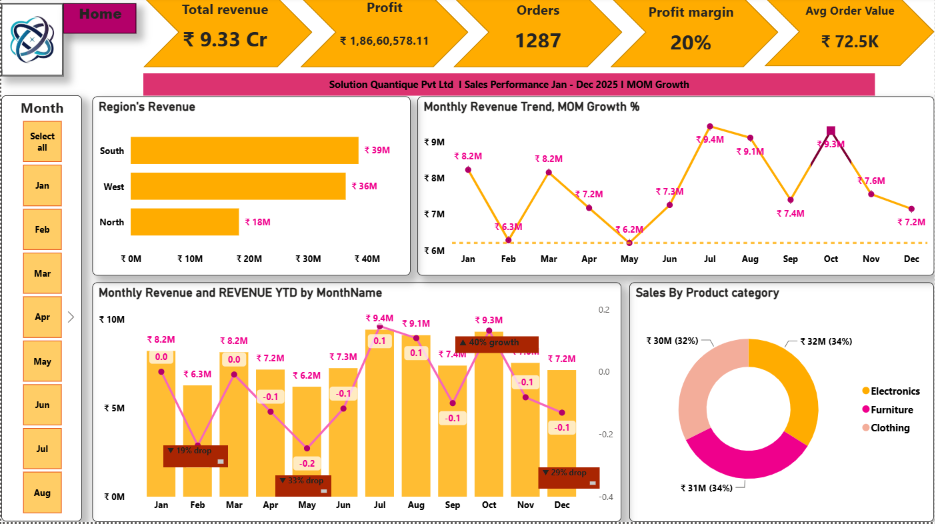

Layout of this report page (visuals, bound fields, positions):
{"tool":"powerbi","page":{"name":"Executive Summary-SQ1","canvas":[1280,720],"ordinal":0},"visuals":[{"type":"slicer","title":"Month","fields":{"Values":["Dim_Date.Month Short"]},"box":[0,134.8,110.5,584.5],"z":0},{"type":"lineChart","title":"Monthly Revenue Trend, MOM Growth %","fields":{"Y":["All Measures.Total_Revenue"],"Category":["Dim_Date.Month Short"]},"box":[570.3,136.5,709.7,246],"z":1000},{"type":"donutChart","title":"Sales By Product category","fields":{"Y":["Sum(fact_Sales.Total_Sales)"],"Category":["dim_Product.Product_Category"]},"box":[862.3,391.5,417.7,328.5],"z":2000},{"type":"clusteredBarChart","title":"Region''s  Revenue ","fields":{"Category":["fact_Sales.region"],"Y":["All Measures.Total_Revenue"]},"box":[124.4,136.5,436.6,246],"z":3000},{"type":"lineClusteredColumnComboChart","title":"Monthly Revenue and REVENUE YTD by MonthName","fields":{"Y2":["All Measures.Growth vs Jan 2025 %"],"Y":["All Measures.Total_Revenue"],"Category":["Dim_Date.Month Short"]},"box":[124.4,391.5,725.9,328.5],"z":4000},{"type":"textbox","title":"▼ 19% drop","box":[222.7,615.2,87.9,30.3],"z":5000},{"type":"textbox","title":"▼ 33% drop","box":[375.8,656.1,75.8,28.8],"z":6000},{"type":"textbox","title":"▼ 29% drop","box":[736.4,645.5,83.3,28.8],"z":7000},{"type":"textbox","title":"▲ 40% growth","box":[622.5,464.8,114.1,22.5],"z":8000},{"type":"image","box":[0,8,85,100],"z":9000},{"type":"actionButton","title":"Home","box":[85.1,8.2,100.2,41.2],"z":10000},{"type":"shape","box":[194.4,0,231.9,95.8],"z":11000},{"type":"shape","box":[620.8,0,231.9,95.8],"z":12000},{"type":"shape","box":[836.1,0,230.6,95.8],"z":13000},{"type":"shape","box":[409.7,0,230.6,95.8],"z":14000},{"type":"shape","box":[1046.7,0,233.3,94.4],"z":15000},{"type":"cardVisual","title":"Total revenue","fields":{"Data":["All Measures.Total Revenue Display"]},"box":[214.1,2.8,185.9,81.7],"z":16000},{"type":"cardVisual","title":"Profit","fields":{"Data":["All Measures.Total_Profit"]},"box":[431,0,190.1,90.1],"z":17000},{"type":"cardVisual","title":"Orders","fields":{"Data":["All Measures.Total_Orders"]},"box":[643.7,4.2,185.9,81.7],"z":18000},{"type":"cardVisual","title":"Profit margin","fields":{"Data":["All Measures.Profit Margin % New"]},"box":[853.5,7,185.9,81.7],"z":19000},{"type":"cardVisual","title":"Avg Order Value","fields":{"Data":["All Measures.Average Order Value"]},"box":[1071.8,7,185.9,81.7],"z":20000},{"type":"textbox","box":[194.4,104.2,1004.2,31],"z":21000}]}

Visuals, with their boxes in screenshot pixels (x1, y1, x2, y2), scaled from the page's 1280x720 canvas onto the 935x526 screenshot:
"Month" slicer: Rect(0, 98, 81, 525)
"Monthly Revenue Trend, MOM Growth %" lineChart: Rect(417, 100, 934, 279)
"Sales By Product category" donutChart: Rect(630, 286, 934, 525)
"Region''s  Revenue " clusteredBarChart: Rect(91, 100, 410, 279)
"Monthly Revenue and REVENUE YTD by MonthName" lineClusteredColumnComboChart: Rect(91, 286, 621, 525)
"▼ 19% drop" textbox: Rect(163, 449, 227, 472)
"▼ 33% drop" textbox: Rect(275, 479, 330, 500)
"▼ 29% drop" textbox: Rect(538, 472, 599, 493)
"▲ 40% growth" textbox: Rect(455, 340, 538, 356)
image: Rect(0, 6, 62, 79)
"Home" actionButton: Rect(62, 6, 135, 36)
shape: Rect(142, 0, 311, 70)
shape: Rect(453, 0, 623, 70)
shape: Rect(611, 0, 779, 70)
shape: Rect(299, 0, 468, 70)
shape: Rect(765, 0, 934, 69)
"Total revenue" cardVisual: Rect(156, 2, 292, 62)
"Profit" cardVisual: Rect(315, 0, 454, 66)
"Orders" cardVisual: Rect(470, 3, 606, 63)
"Profit margin" cardVisual: Rect(623, 5, 759, 65)
"Avg Order Value" cardVisual: Rect(783, 5, 919, 65)
textbox: Rect(142, 76, 876, 99)
